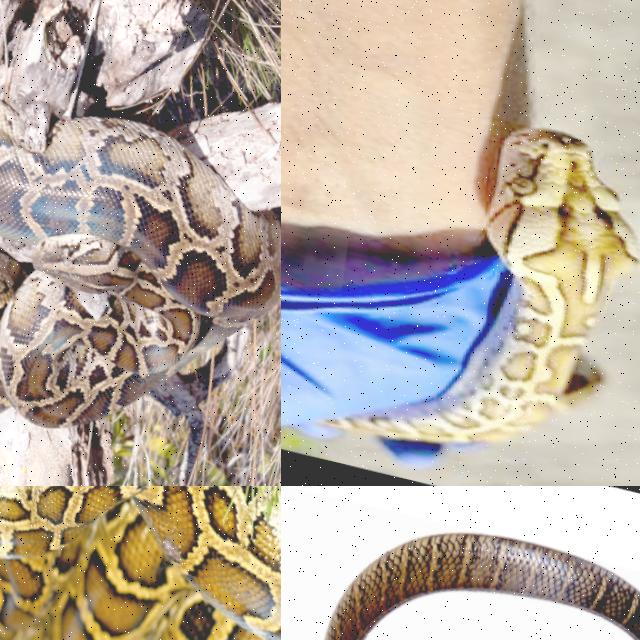Ophiophagus hannah: (326, 533, 639, 639)
Python bivittatus: (325, 128, 638, 443), (0, 100, 280, 426), (0, 486, 280, 639)
snake: (325, 128, 638, 443), (0, 100, 280, 426), (0, 486, 280, 639), (326, 533, 639, 639)
